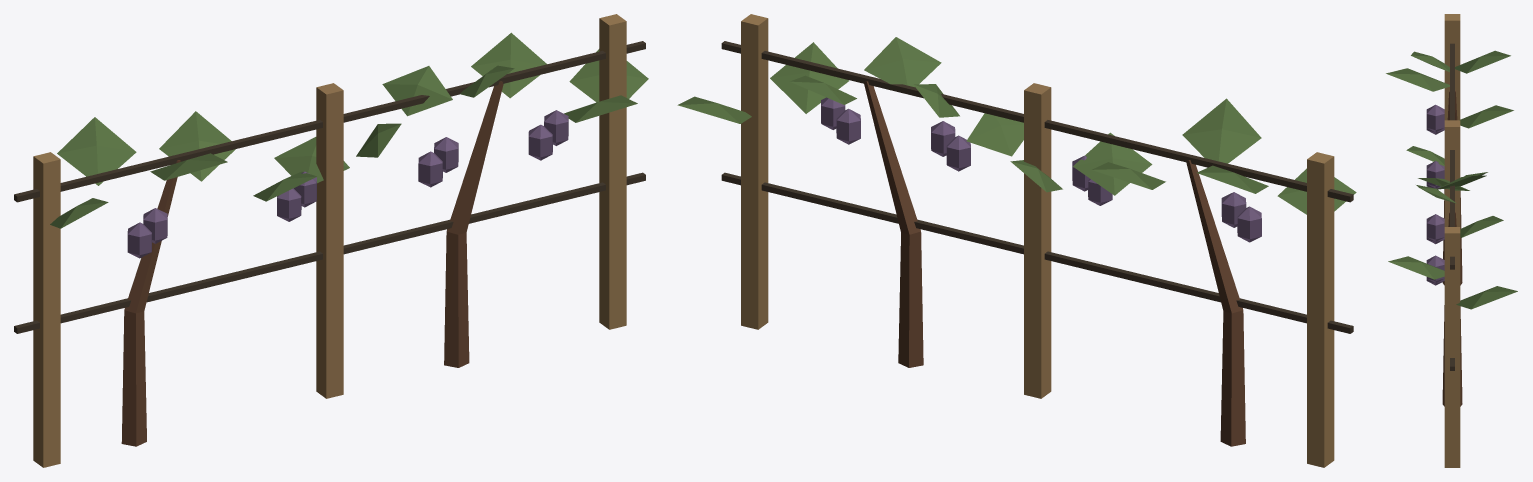
Rendered from Plant_Feature_Pastoral_VineyardRow_001_LOD1.glb.
The picture shows the model from 3 angles, left to right: view 1: azimuth 30°, elevation 25°; view 2: azimuth 150°, elevation 25°; view 3: azimuth 270°, elevation 25°; orthographic projection. The views are drawn at different scales.
Parts seen in each view (by area): view 1: Plant_Feature_Pastoral_VineyardRow_001_LOD1; view 2: Plant_Feature_Pastoral_VineyardRow_001_LOD1; view 3: Plant_Feature_Pastoral_VineyardRow_001_LOD1.
Boxes of the visible parts, x1,y1,x2,y2 form: Plant_Feature_Pastoral_VineyardRow_001_LOD1: (14, 14, 648, 467); Plant_Feature_Pastoral_VineyardRow_001_LOD1: (677, 14, 1356, 467); Plant_Feature_Pastoral_VineyardRow_001_LOD1: (1386, 14, 1517, 467).
Bounding box in the file's own units: 4.1 × 1.85 × 0.9511.
